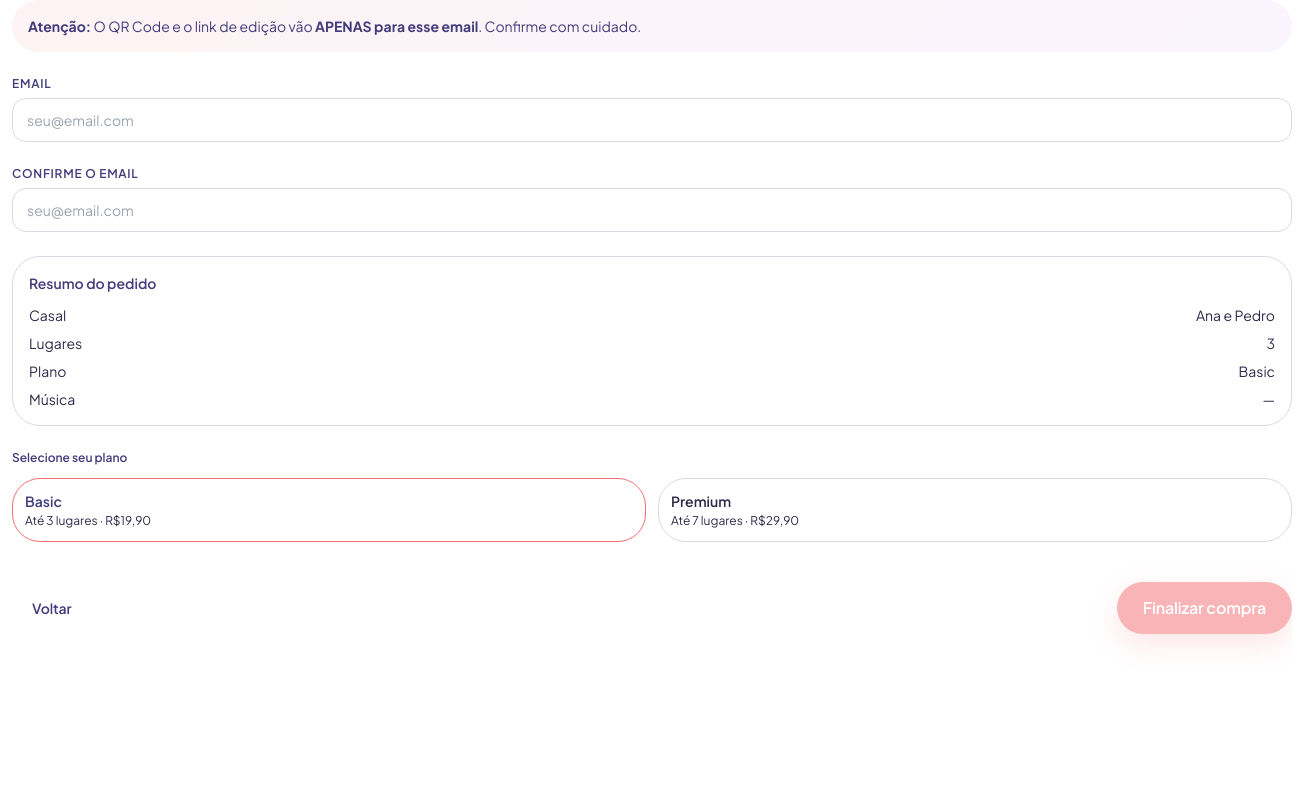
payment-flow integration › should show generic error for 400 response
The width and height of the screenshot is (1304, 800).
Type "pedro@example.com" into the 1st field with placeholder "seu@email.com" at [652, 120], box [12, 98, 1292, 142]
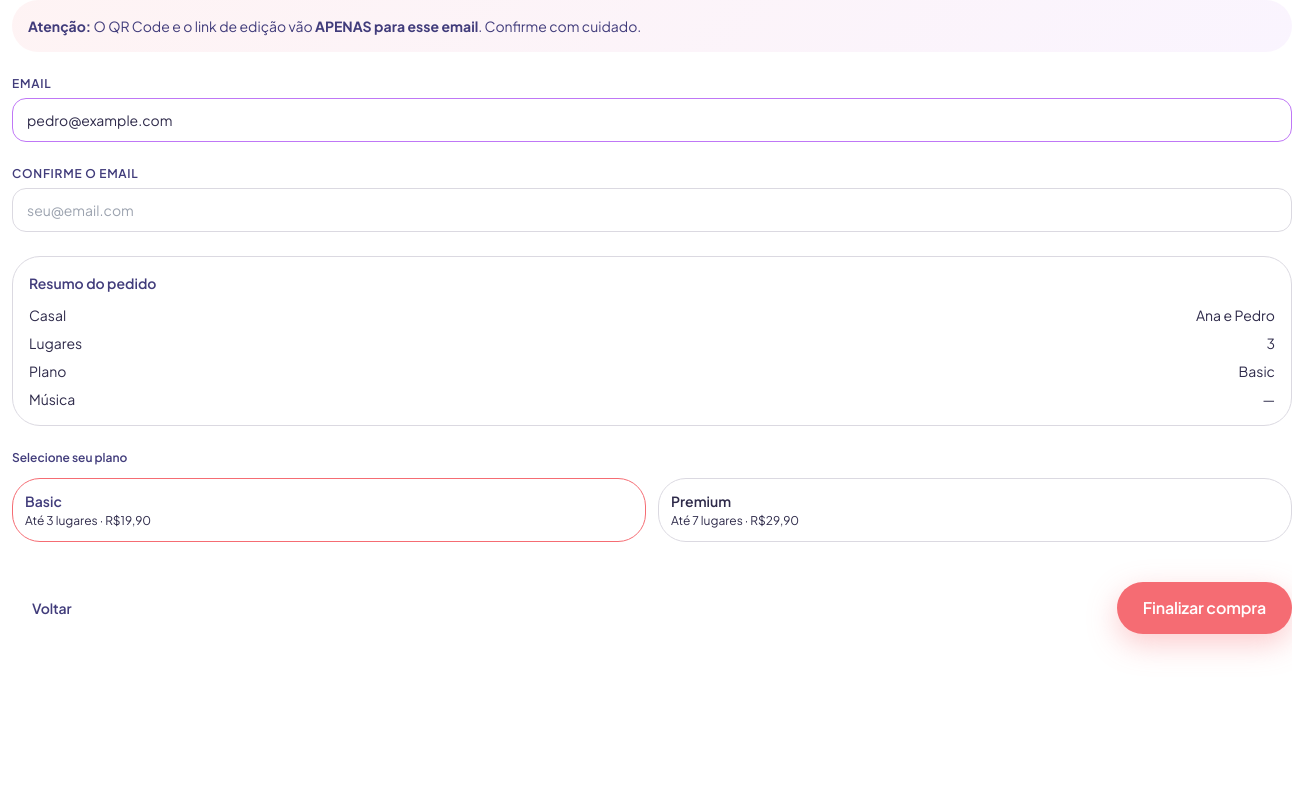
Type "pedro@example.com" into the field with placeholder "seu@email.com" at [652, 210], box [12, 188, 1292, 232]
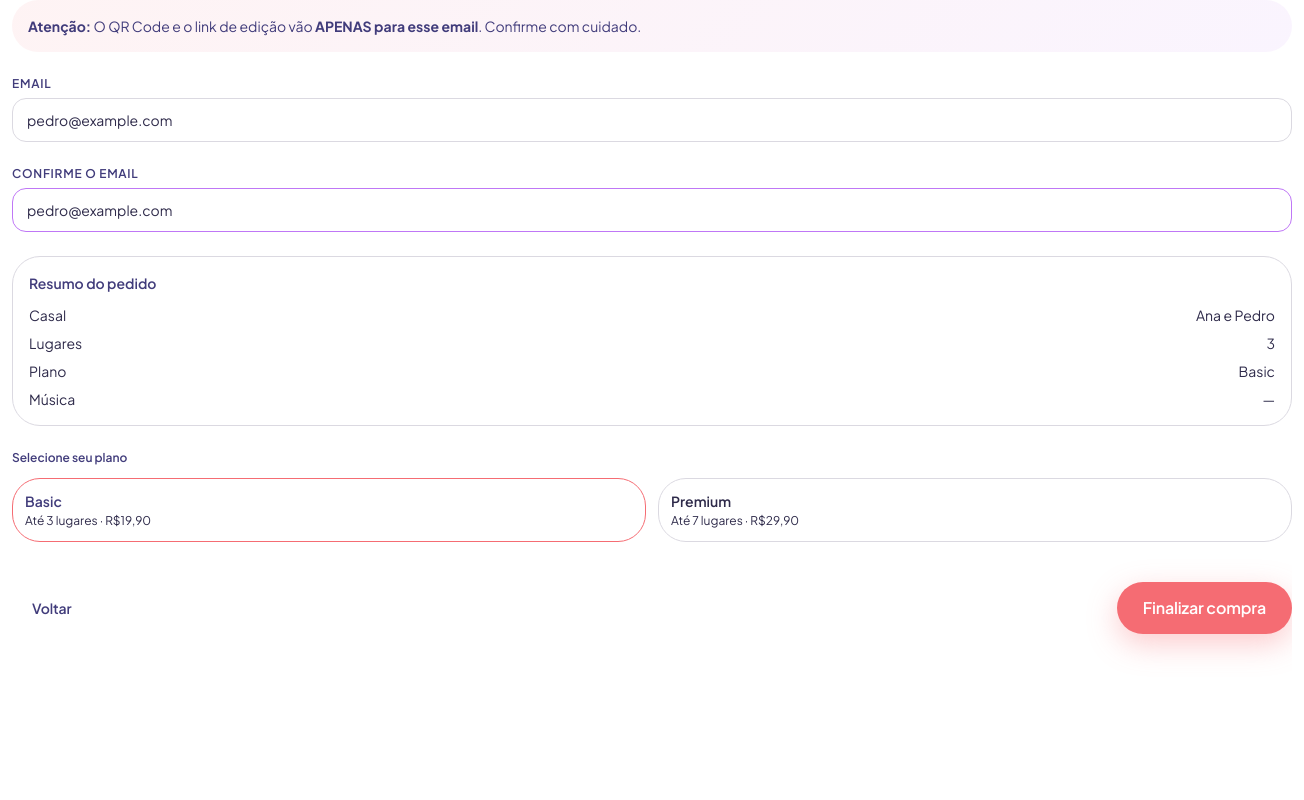
Now the button "Finalizar compra" is enabled
Click the button "Finalizar compra" at [1204, 608], box [1117, 582, 1292, 634]
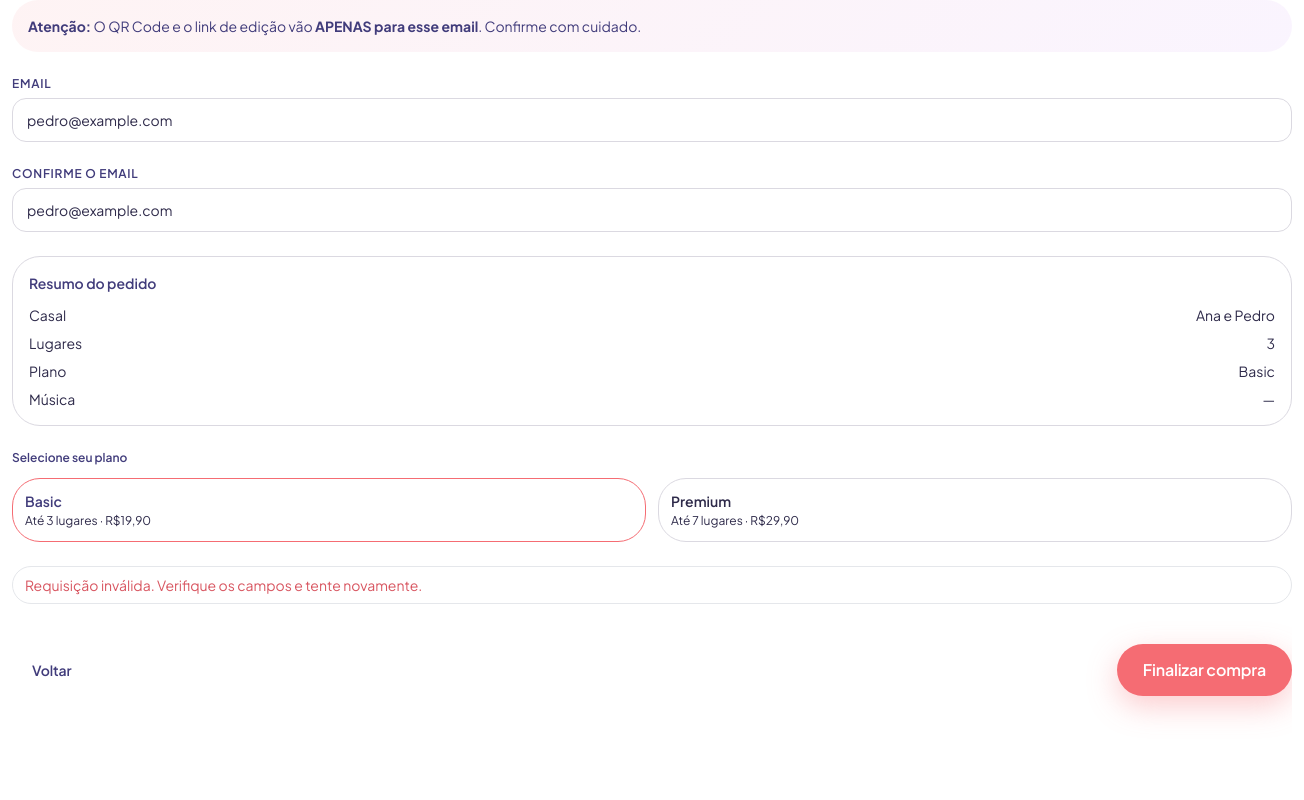
Now the text "Requisição inválida. Verifique os campos e tente novamente." is shown, box [12, 566, 1292, 604]
